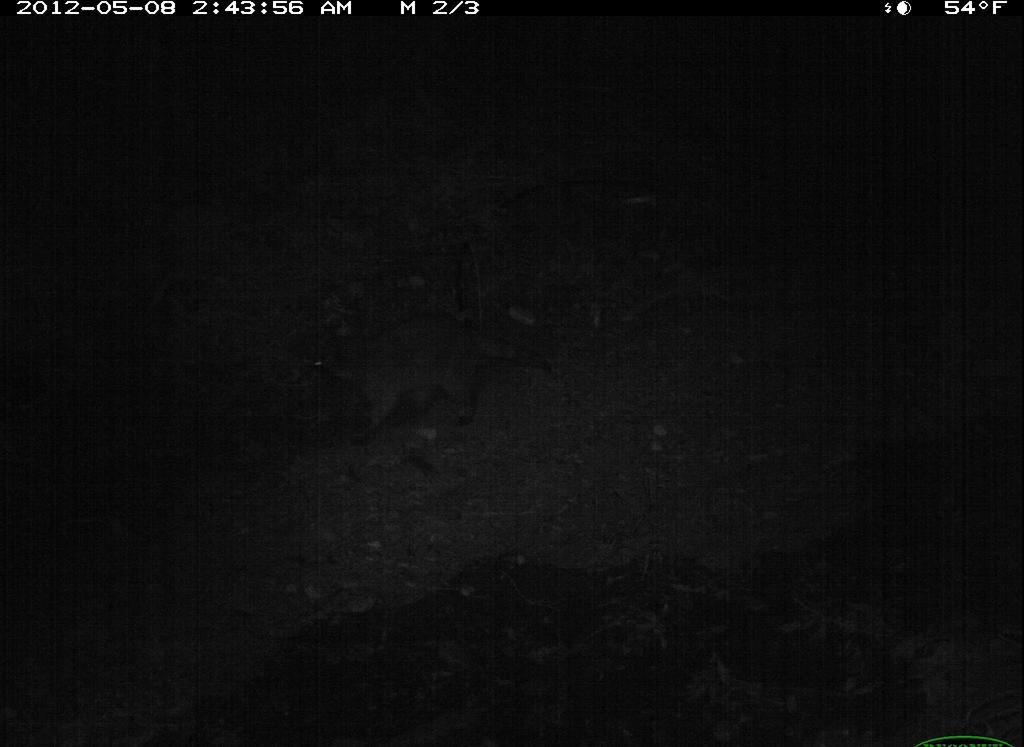raccoon: (291, 313, 556, 449)
